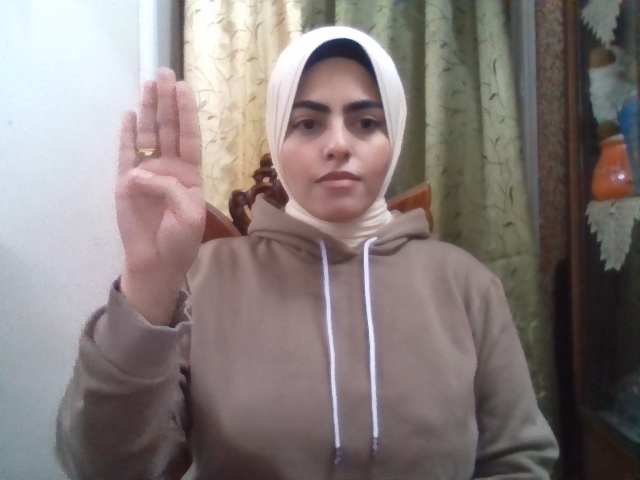B: (115, 67, 207, 273)
